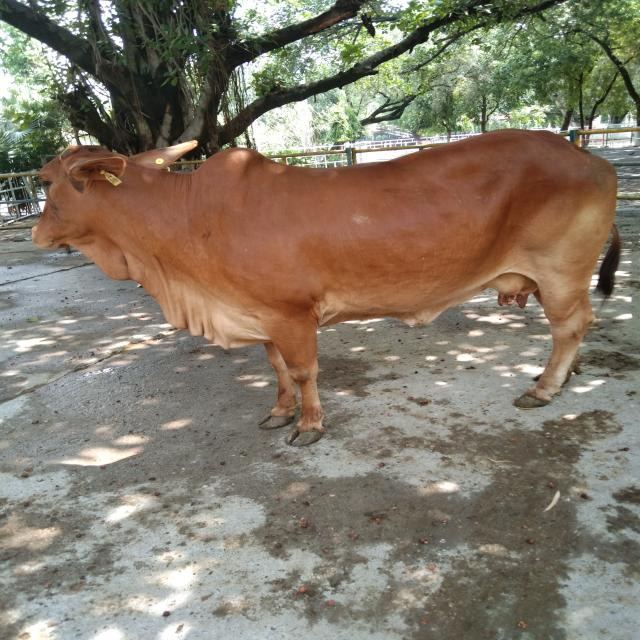1: (181, 145, 293, 175)
Hoof: (285, 425, 325, 447), (512, 392, 550, 409), (258, 413, 294, 430)
